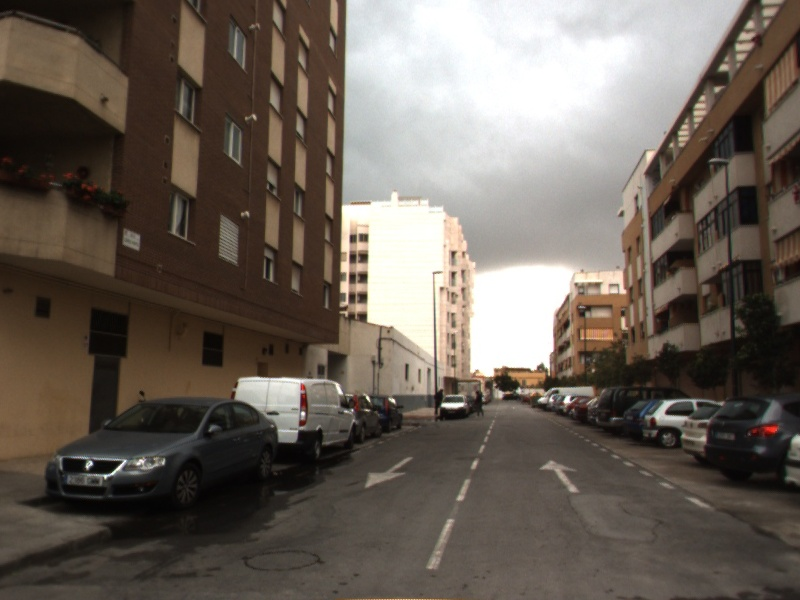STRAIGHT: (537, 458, 583, 495)
